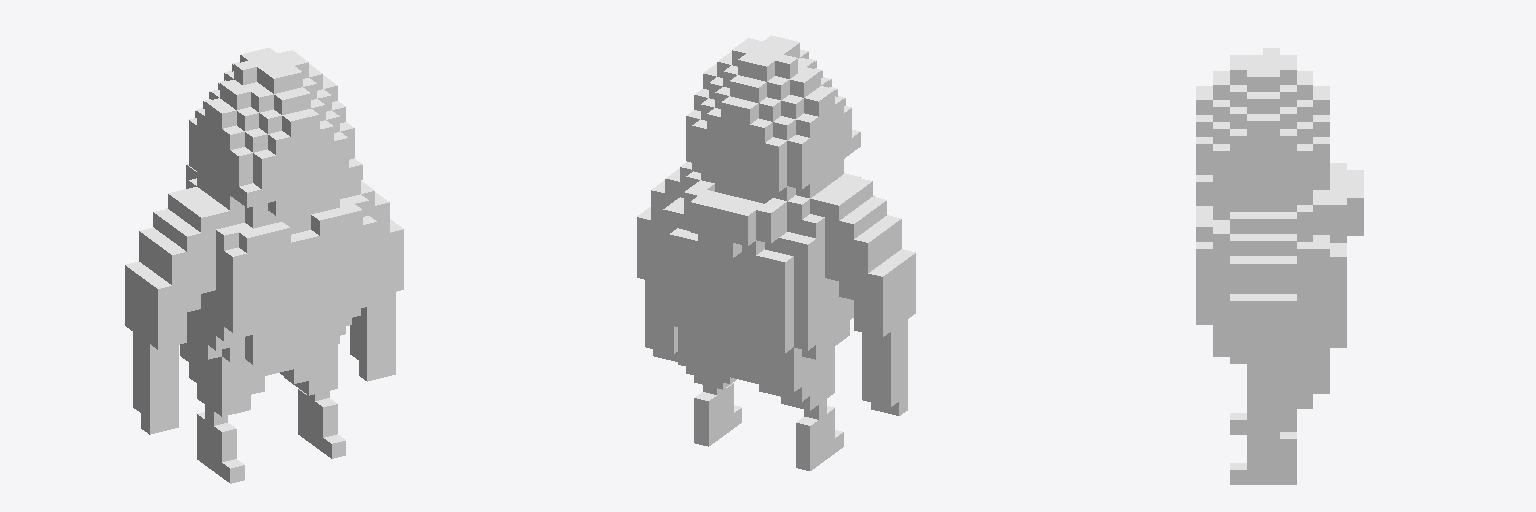
File: Moniteur_ski_triste.obj
3 views of the same model, side by side, from view 1: azimuth 30°, elevation 25°; view 2: azimuth 150°, elevation 25°; view 3: azimuth 270°, elevation 25° (orthographic).
Size of the model in its own units: 17 by 26 by 10.